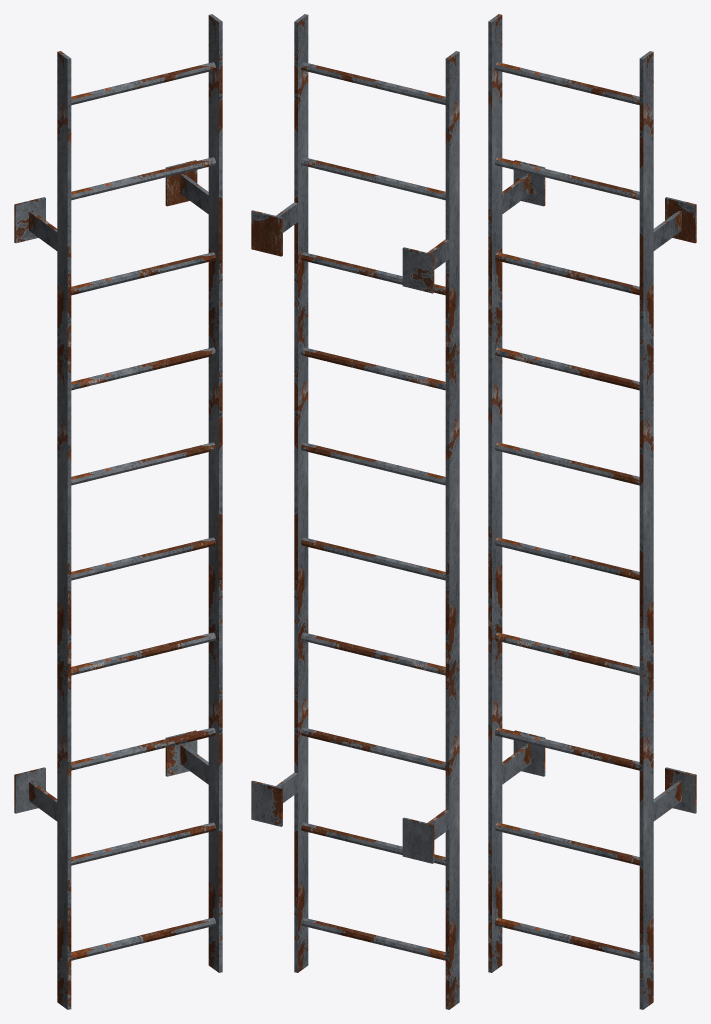
File: dam_merdiveni_3m.gltf
The picture shows the model from 3 angles, left to right: view 1: azimuth 30°, elevation 25°; view 2: azimuth 150°, elevation 25°; view 3: azimuth 330°, elevation 25°; orthographic projection.
Parts seen in each view (by area): view 1: dam_merdiveni_3m; view 2: dam_merdiveni_3m; view 3: dam_merdiveni_3m.
Part boxes in pixels (x1=…): dam_merdiveni_3m: x1=14, y1=14, x2=222, y2=1009; dam_merdiveni_3m: x1=251, y1=14, x2=459, y2=1009; dam_merdiveni_3m: x1=488, y1=14, x2=696, y2=1009.
Size of what is drawn, in the model's own units: 0.6 by 3 by 0.23.
1 material, 1 textured.
